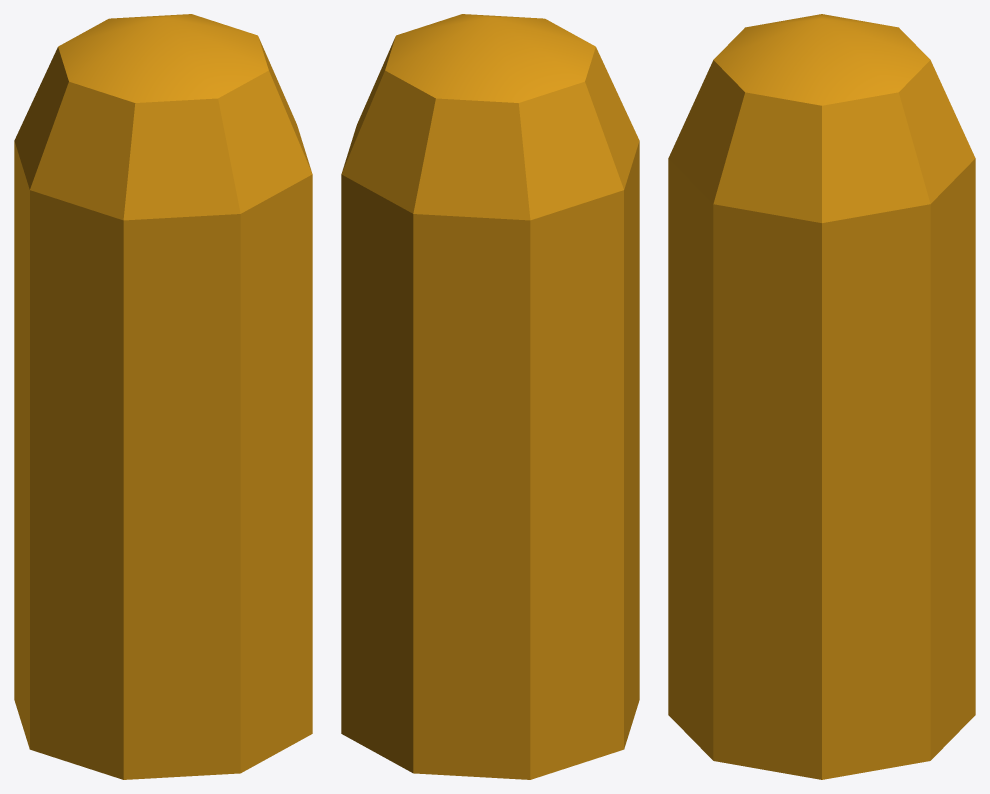
File: Bullet.fbx
3 views of the same model, side by side, from view 1: azimuth 30°, elevation 25°; view 2: azimuth 150°, elevation 25°; view 3: azimuth 270°, elevation 25° (orthographic).
Parts seen in each view (by area): view 1: Zylinder, Kugel; view 2: Zylinder, Kugel; view 3: Zylinder, Kugel.
Part boxes in pixels (x1,y1,x2,y2): Zylinder: [14, 141, 312, 779]; Kugel: [14, 14, 312, 220]; Zylinder: [341, 141, 639, 779]; Kugel: [341, 14, 639, 220]; Zylinder: [668, 158, 975, 779]; Kugel: [668, 14, 975, 222].
Size of the model in its own units: 10 by 25 by 10.
